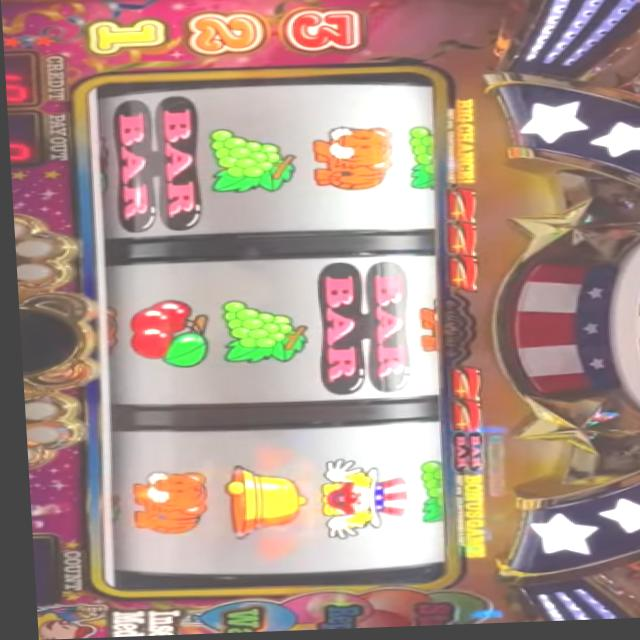bar: (306, 264, 409, 398), (113, 96, 202, 235), (448, 436, 480, 476)
bell: (212, 464, 302, 543)
cherry: (124, 300, 207, 371)
clown: (307, 459, 406, 544)
display: (76, 74, 454, 592)
grape: (213, 300, 308, 367), (206, 128, 295, 196), (409, 462, 444, 529), (400, 127, 433, 196)
tiger: (309, 128, 394, 194), (122, 471, 205, 537), (413, 300, 442, 357)
z: (442, 259, 477, 298), (440, 191, 474, 227), (441, 227, 475, 261), (448, 369, 479, 404), (448, 405, 479, 435)
